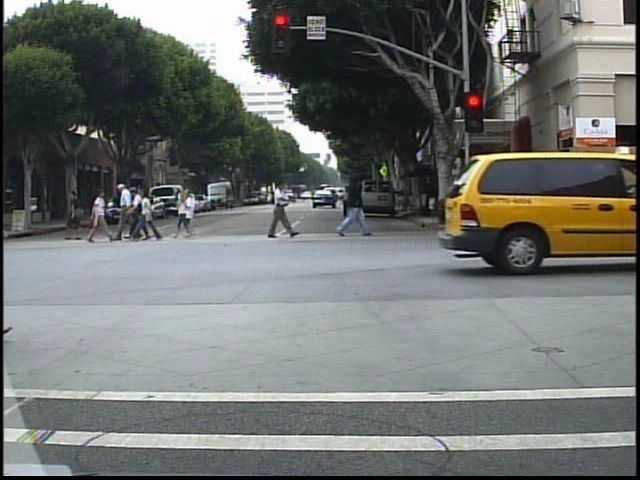person: (335, 165, 377, 243), (82, 188, 113, 250), (264, 180, 293, 240), (137, 187, 159, 245), (118, 179, 135, 245), (66, 186, 84, 241), (135, 185, 144, 244)
